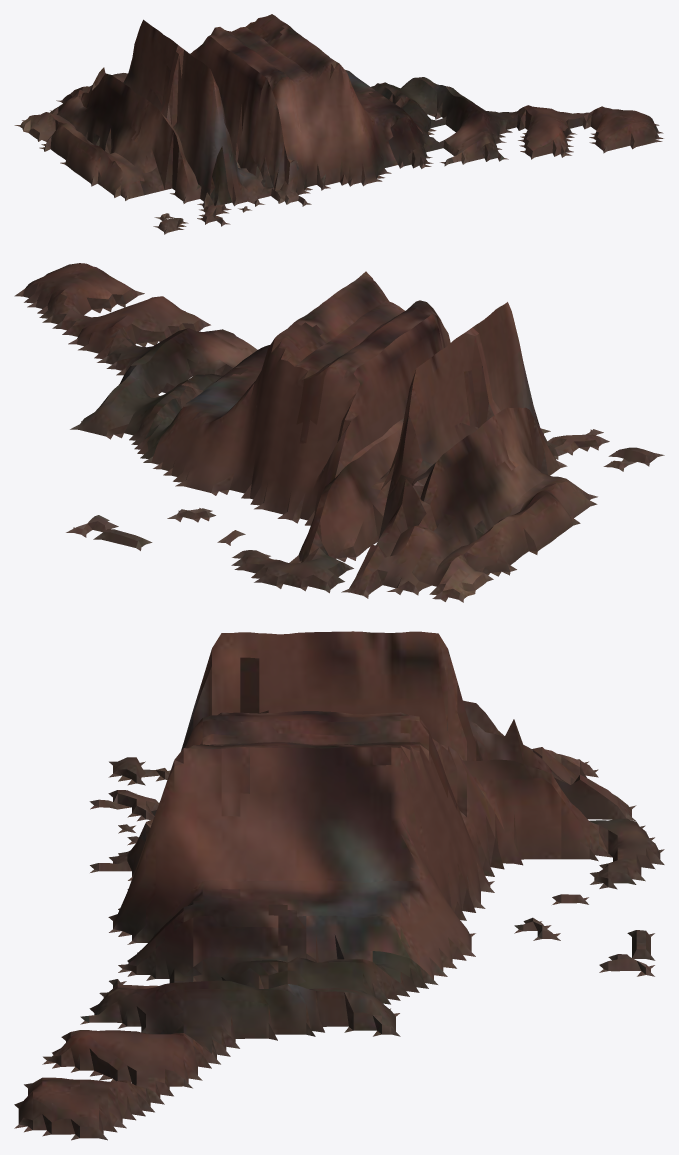
The model's file is fulgoran-ruin-colossal.glb.
3 views of the same model, one above another, from view 1: azimuth 30°, elevation 25°; view 2: azimuth 150°, elevation 25°; view 3: azimuth 270°, elevation 25° (orthographic). The views are drawn at different scales.
Visible parts, largest first — view 1: body; view 2: body; view 3: body.
Boxes of the visible parts, bbox=[...] form: body: bbox=[14, 14, 663, 234]; body: bbox=[14, 263, 664, 602]; body: bbox=[14, 631, 664, 1140].
Size of the model in its own units: 12.01 by 2.83 by 8.62.
1 material, 1 textured.
